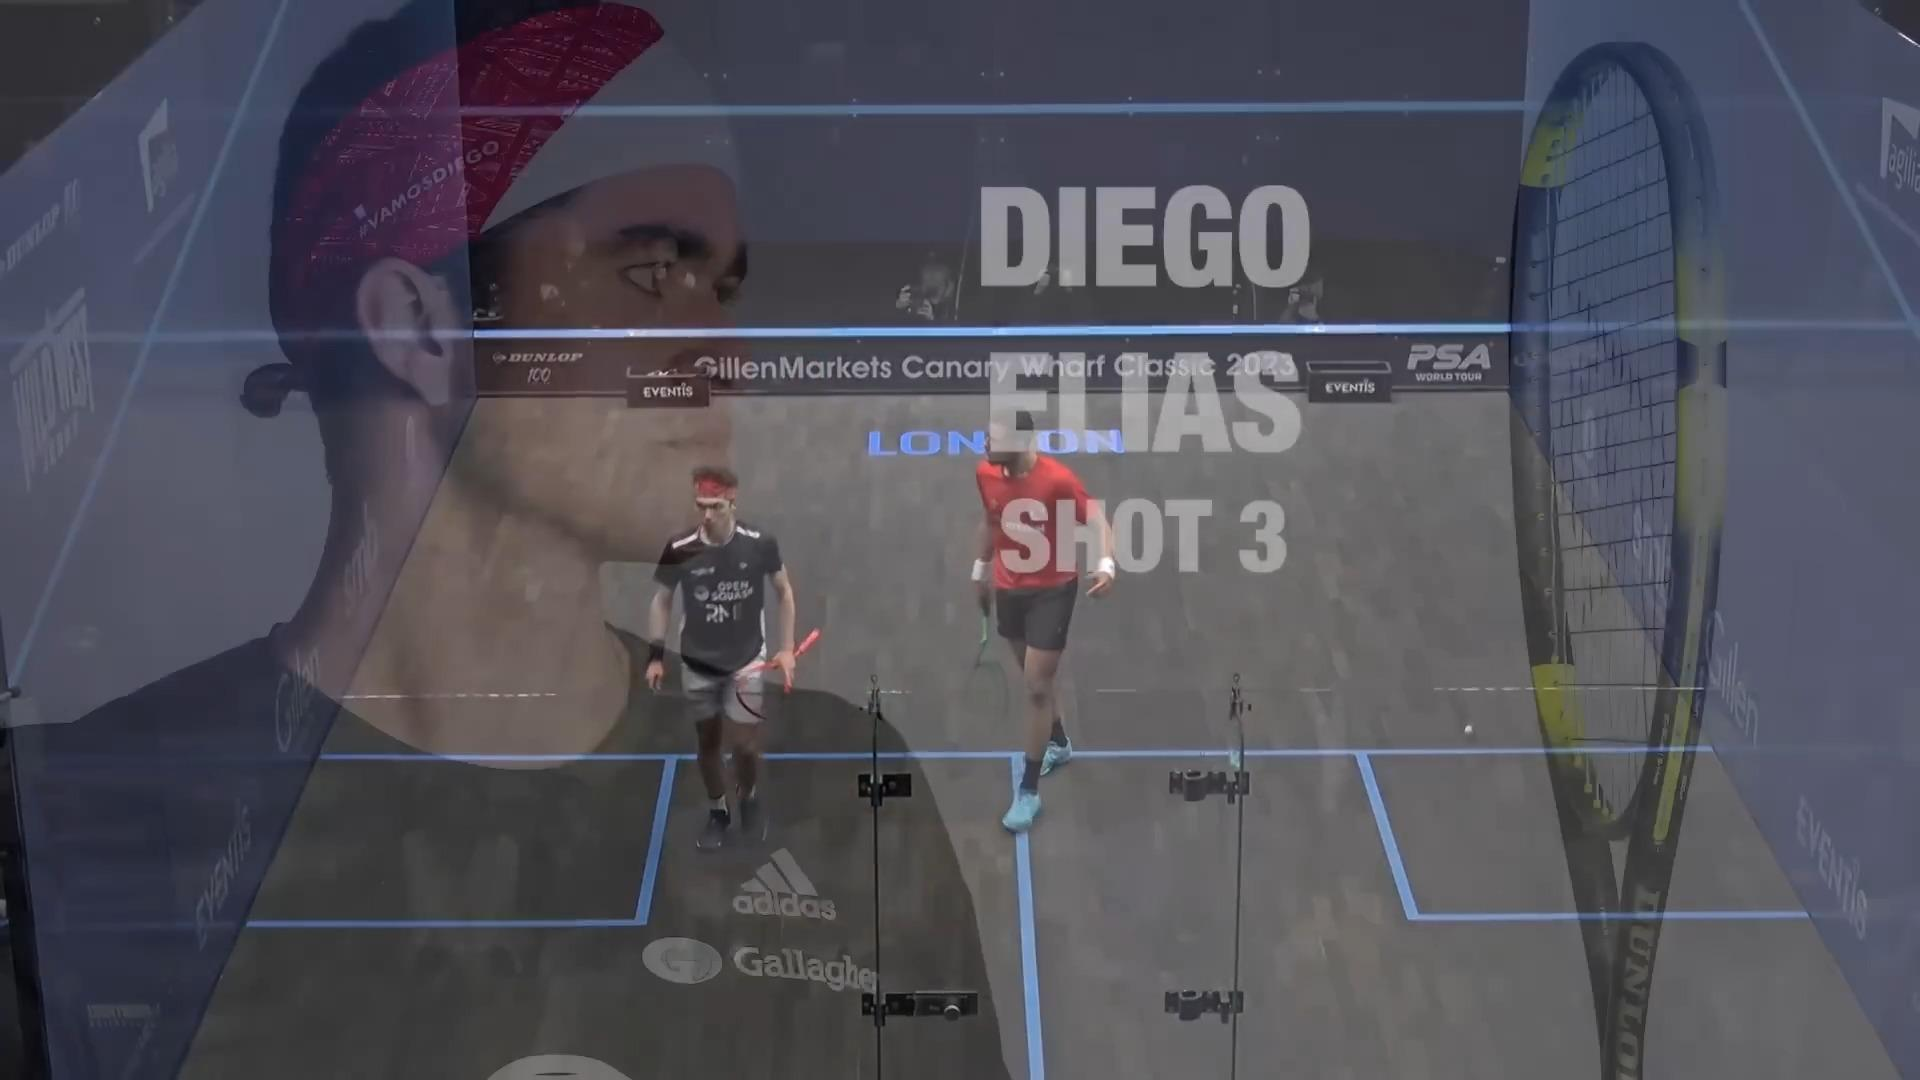Racket: (732, 624, 832, 723)
